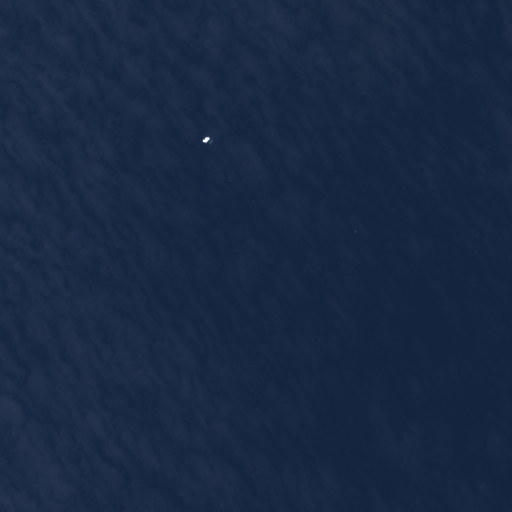Iceberg: (202, 136, 209, 142), (354, 231, 356, 232)
